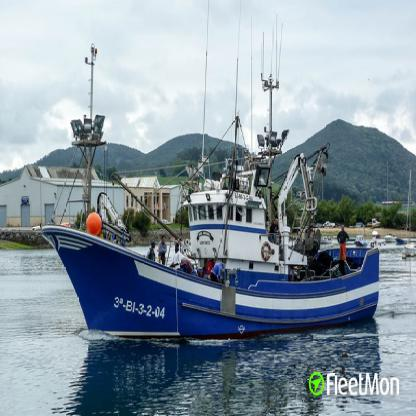Fishing Boat: (41, 11, 380, 339)
